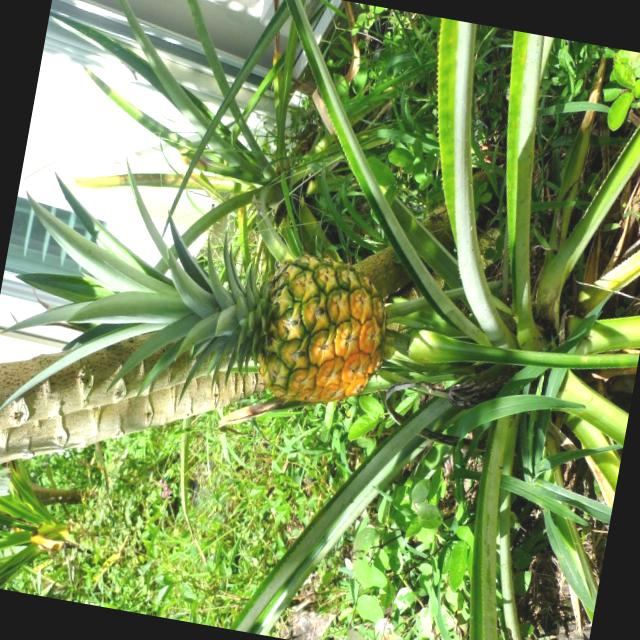pineapple: (184, 230, 399, 421)
